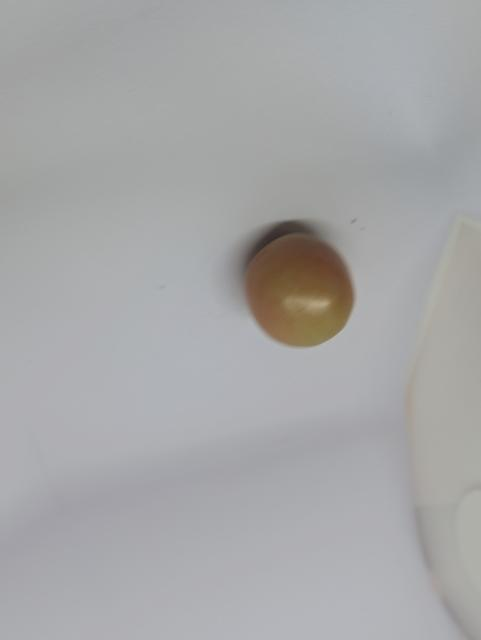turning: (234, 228, 362, 354)
